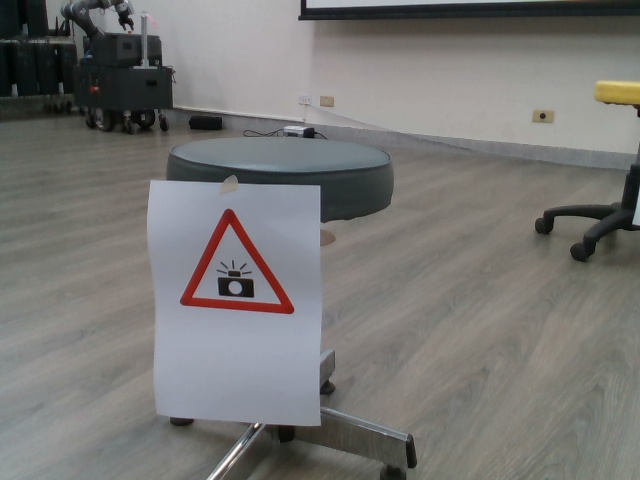camera: (176, 205, 296, 319)
